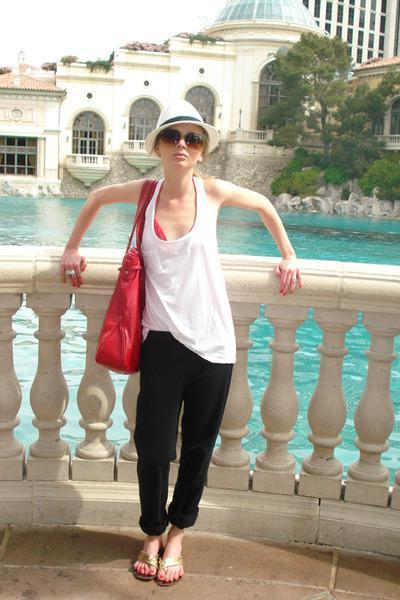trousers: (134, 331, 237, 533)
vest: (132, 176, 245, 363)
